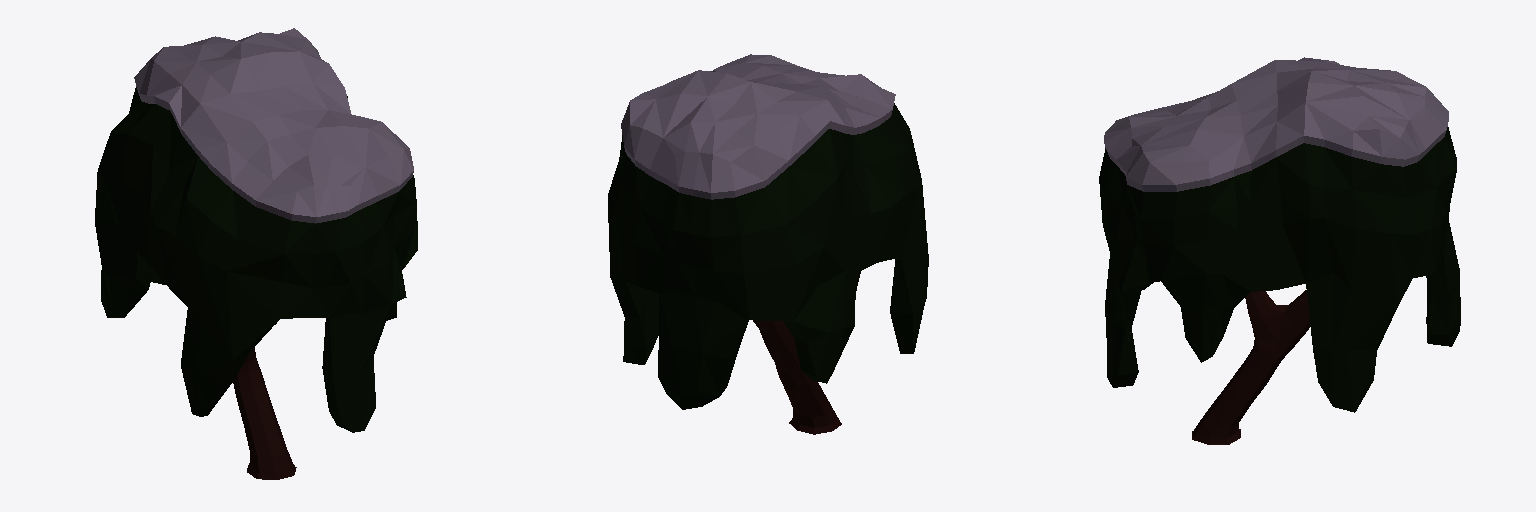
Rendered from Willow_Snow_4.obj.
The picture shows the model from 3 angles: view 1: azimuth 30°, elevation 25°; view 2: azimuth 150°, elevation 25°; view 3: azimuth 270°, elevation 25°; orthographic projection.
Parts seen in each view (by area): view 1: Willow_Snow_4_Cube.142; view 2: Willow_Snow_4_Cube.142; view 3: Willow_Snow_4_Cube.142.
Boxes of the visible parts, x1=… form: Willow_Snow_4_Cube.142: x1=95, y1=28, x2=417, y2=479; Willow_Snow_4_Cube.142: x1=608, y1=54, x2=928, y2=434; Willow_Snow_4_Cube.142: x1=1099, y1=57, x2=1460, y2=444.
Size of the model in its own units: 2.19 by 3.46 by 3.04.